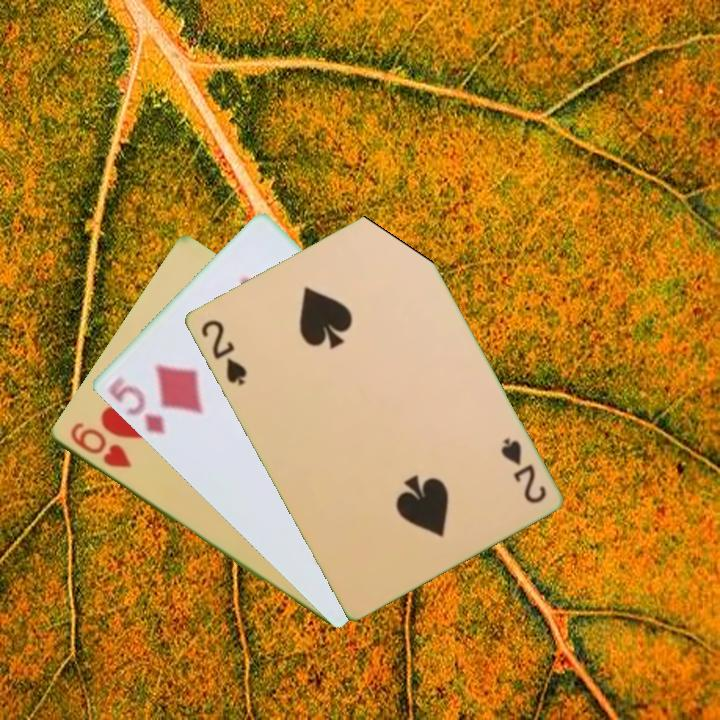2s: (197, 315, 250, 389), (496, 433, 549, 507)
5d: (103, 373, 168, 438)
6h: (66, 418, 134, 471)
